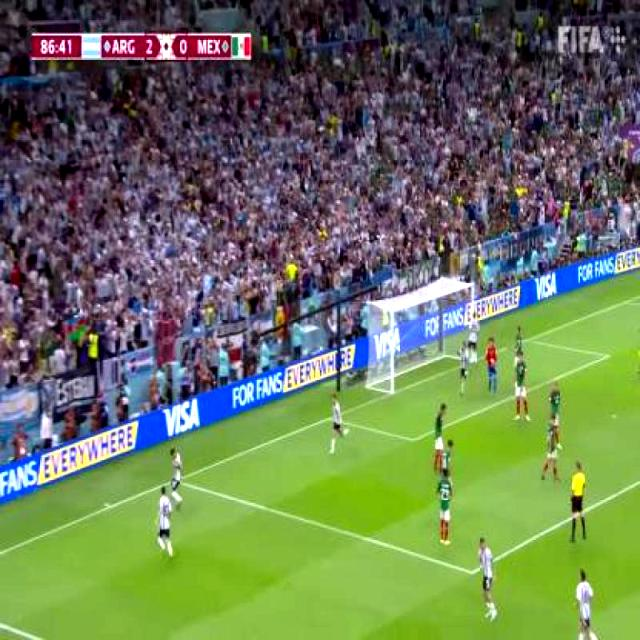bigarea_bottom_inner: (466, 560, 479, 586)
bigarea_top_outter: (622, 295, 632, 310)
smallarea_bottom_inner: (408, 432, 420, 451)
smallarea_bottom_outter: (326, 414, 334, 426)
smallarea_top_inner: (602, 349, 616, 363)
smallarea_top_outter: (521, 334, 534, 348)
